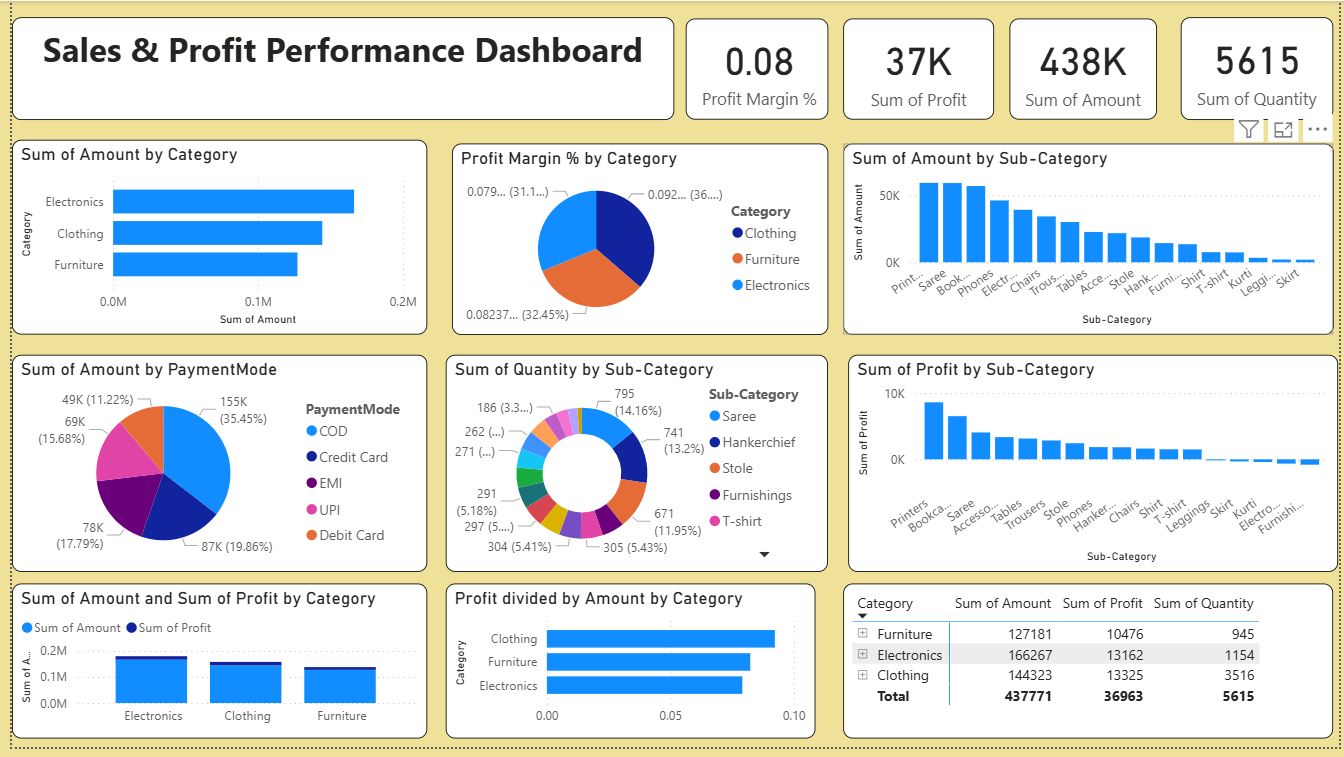

What the dashboard file says about the page in this screenshot:
{"tool":"powerbi","page":{"name":"Page 1","canvas":[1280,720],"ordinal":0},"visuals":[{"type":"clusteredBarChart","fields":{"Category":["Details(1).Category"],"Y":["Sum(Details(1).Amount)"]},"box":[0,133.9,400.5,188.2],"z":0},{"type":"columnChart","fields":{"Y":["Sum(Details(1).Profit)"],"Category":["Details(1).Sub-Category"]},"box":[807.1,341.4,472.9,209.9],"z":1000},{"type":"pieChart","fields":{"Y":["Sum(Details(1).Amount)"],"Category":["Details(1).PaymentMode"]},"box":[0,341.4,400.5,209.9],"z":2000},{"type":"card","fields":{"Values":["Sum(Details(1).Amount)"]},"box":[962.7,16.9,142.4,97.7],"z":3000},{"type":"card","fields":{"Values":["Sum(Details(1).Profit)"]},"box":[802.3,16.9,146,97.7],"z":4000},{"type":"card","fields":{"Values":["Sum(Details(1).Quantity)"]},"box":[1128,15.7,147.2,98.9],"z":5000},{"type":"columnChart","fields":{"Y":["Sum(Details(1).Amount)","Sum(Details(1).Profit)"],"Category":["Details(1).Category"]},"box":[0,562.2,400.5,149.6],"z":6000},{"type":"textbox","box":[0,15.7,639.4,98.9],"z":7000},{"type":"donutChart","fields":{"Y":["Sum(Details(1).Quantity)"],"Category":["Details(1).Sub-Category"]},"box":[418.6,341.4,369.2,209.9],"z":8000},{"type":"clusteredBarChart","fields":{"Y":["Details(1).Profit divided by Amount"],"Category":["Details(1).Category"]},"box":[418.6,562.2,357.1,149.6],"z":9000},{"type":"pivotTable","fields":{"Rows":["Details(1).Category","Details(1).Sub-Category"],"Values":["Sum(Details(1).Amount)","Sum(Details(1).Profit)","Sum(Details(1).Quantity)"]},"box":[802.3,562.2,472.9,149.6],"z":10000},{"type":"card","fields":{"Values":["Details(1).Profit Margin %"]},"box":[650.3,16.9,137.5,97.7],"z":11000},{"type":"pieChart","fields":{"Category":["Details(1).Category"],"Y":["Details(1).Profit Margin %"]},"box":[424.2,137.1,363.6,184.7],"z":12000},{"type":"clusteredColumnChart","fields":{"Category":["Details(1).Sub-Category"],"Y":["Sum(Details(1).Amount)"]},"box":[802.2,137.1,473.2,184.7],"z":13000}]}

Visuals, with their boxes in screenshot pixels (x1, y1, x2, y2), scaled from the page's 1280x720 canvas onto the 1344x757 screenshot:
clusteredBarChart - Details(1).Category x Sum(Details(1).Amount): pyautogui.locateOnScreen(0, 141, 421, 339)
columnChart - Sum(Details(1).Profit) x Details(1).Sub-Category: pyautogui.locateOnScreen(847, 359, 1343, 580)
pieChart - Sum(Details(1).Amount) x Details(1).PaymentMode: pyautogui.locateOnScreen(0, 359, 421, 580)
card - Sum(Details(1).Amount): pyautogui.locateOnScreen(1011, 18, 1160, 120)
card - Sum(Details(1).Profit): pyautogui.locateOnScreen(842, 18, 996, 120)
card - Sum(Details(1).Quantity): pyautogui.locateOnScreen(1184, 17, 1339, 120)
columnChart - Sum(Details(1).Amount) x Sum(Details(1).Profit): pyautogui.locateOnScreen(0, 591, 421, 748)
textbox: pyautogui.locateOnScreen(0, 17, 671, 120)
donutChart - Sum(Details(1).Quantity) x Details(1).Sub-Category: pyautogui.locateOnScreen(440, 359, 827, 580)
clusteredBarChart - Details(1).Profit divided by Amount x Details(1).Category: pyautogui.locateOnScreen(440, 591, 814, 748)
pivotTable - Details(1).Category x Details(1).Sub-Category: pyautogui.locateOnScreen(842, 591, 1339, 748)
card - Details(1).Profit Margin %: pyautogui.locateOnScreen(683, 18, 827, 120)
pieChart - Details(1).Category x Details(1).Profit Margin %: pyautogui.locateOnScreen(445, 144, 827, 338)
clusteredColumnChart - Details(1).Sub-Category x Sum(Details(1).Amount): pyautogui.locateOnScreen(842, 144, 1339, 338)
